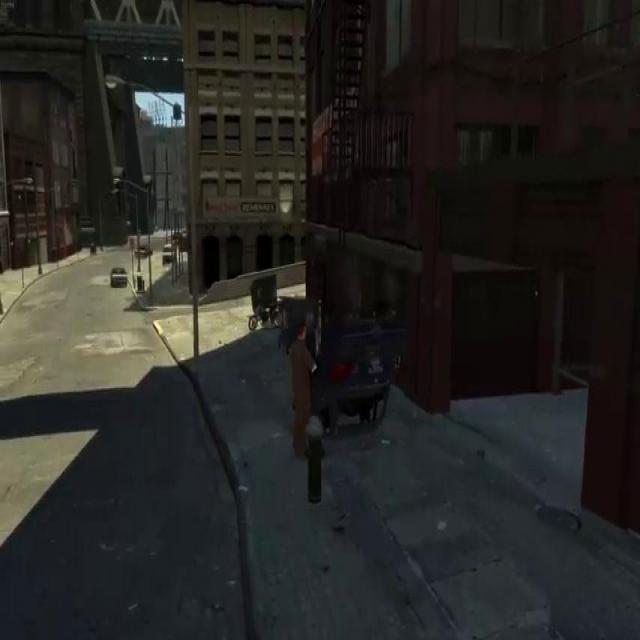severe: (276, 283, 410, 438)
